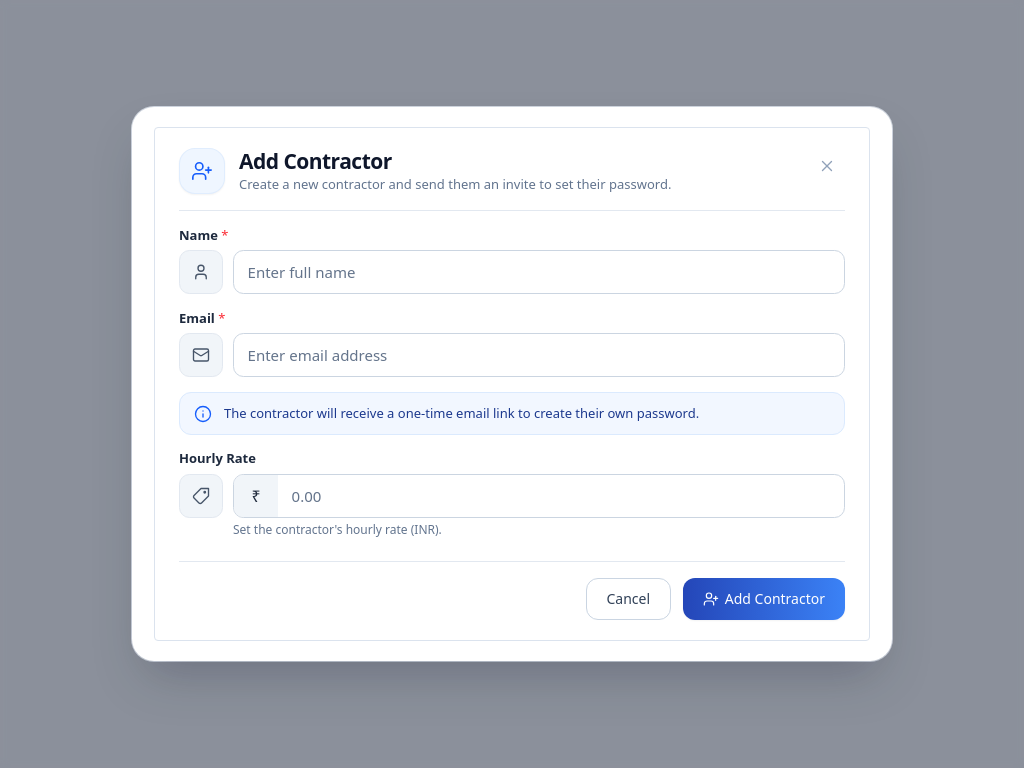
Test case: AddContractorModal › surfaces server API errors inline in an alert banner
Type "Duplicate User" into the field with placeholder "Enter full name" at (539, 272), box [233,250,845,294]
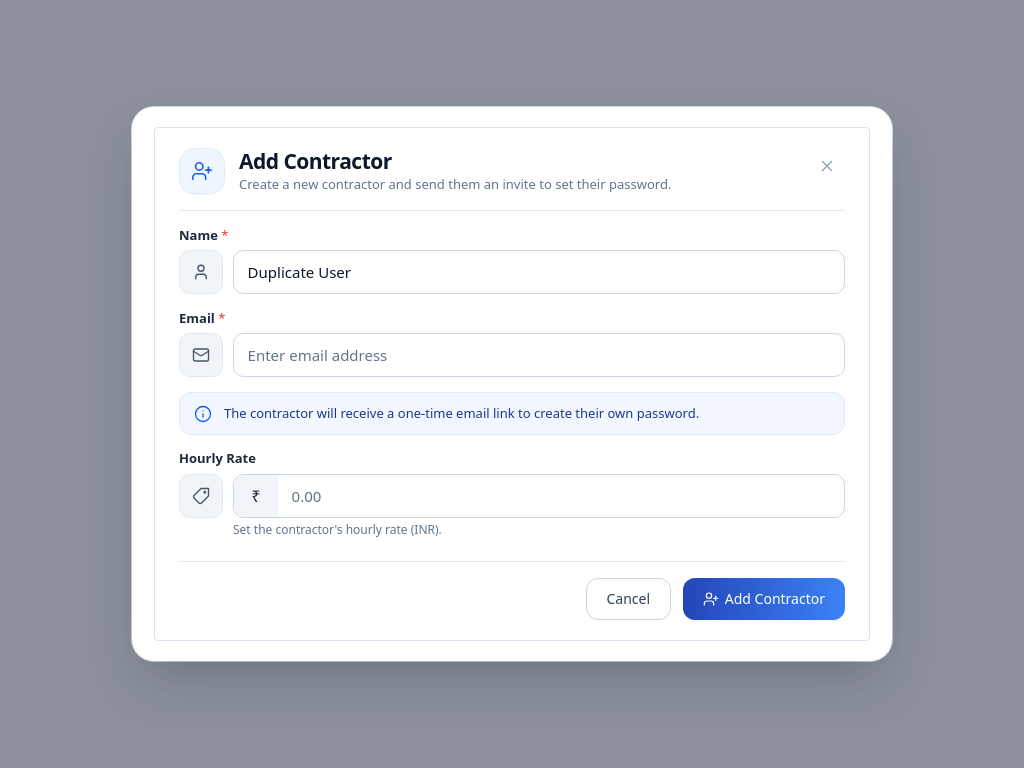
Type "duplicate@example.com" into the field with placeholder "Enter email address" at (539, 355), box [233,333,845,377]
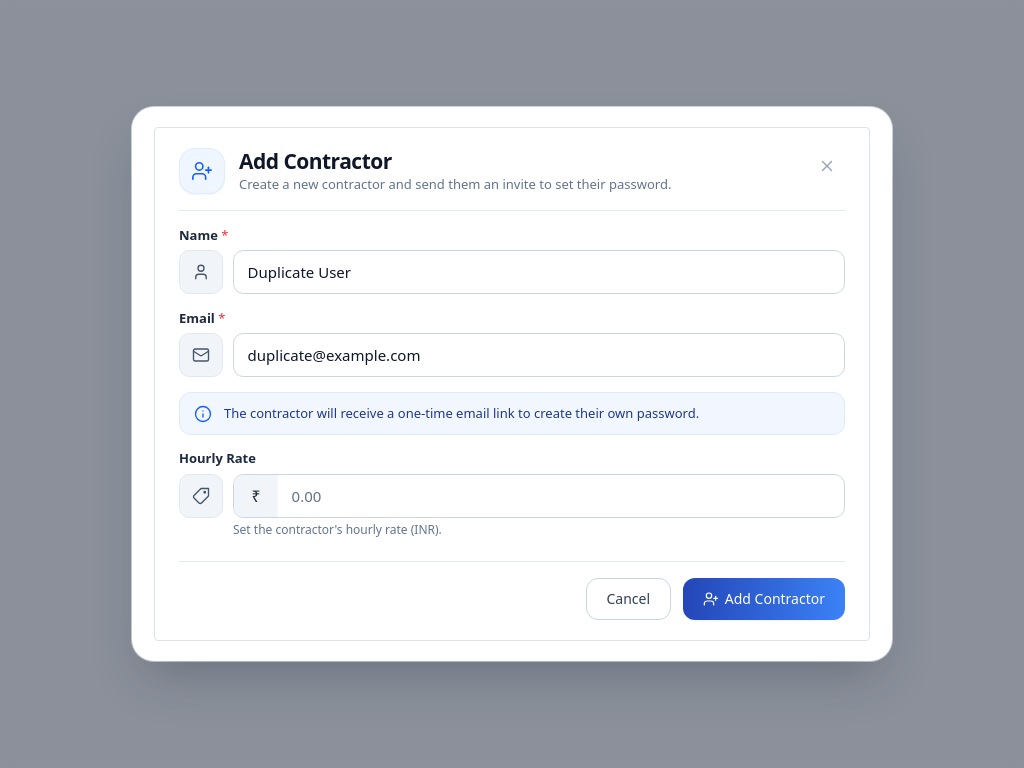
Type "150" into the number field with placeholder "0.00" at (561, 496), box [278,475,844,517]
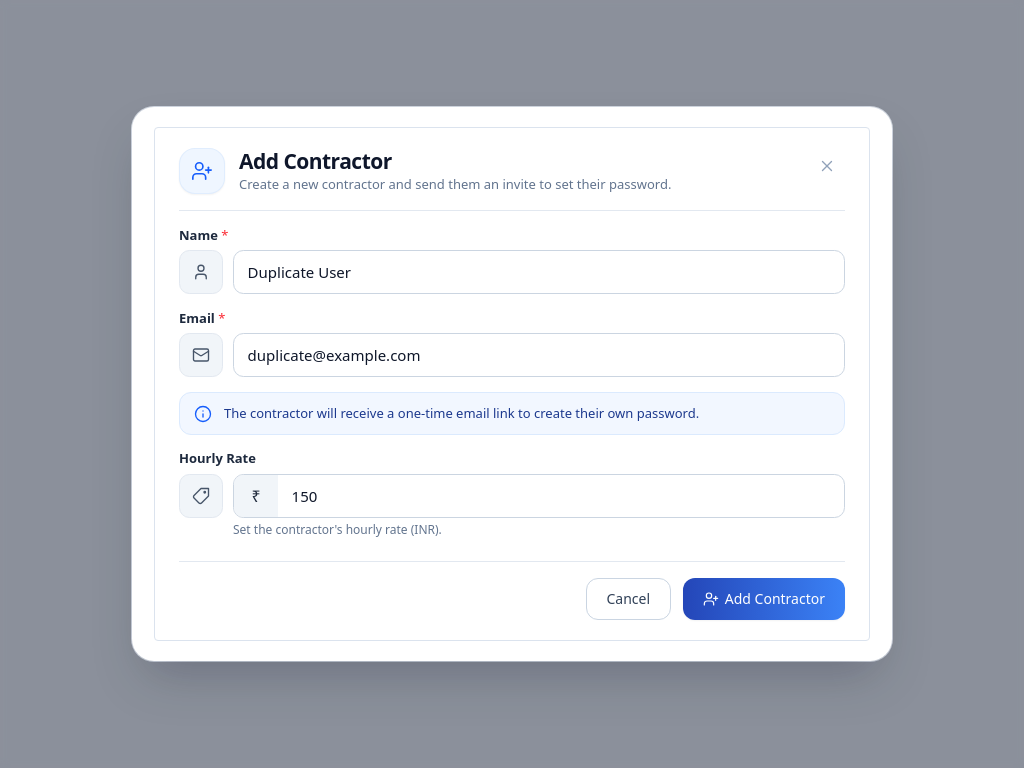
Click the button "Add Contractor" at (764, 599), box [683,578,845,620]
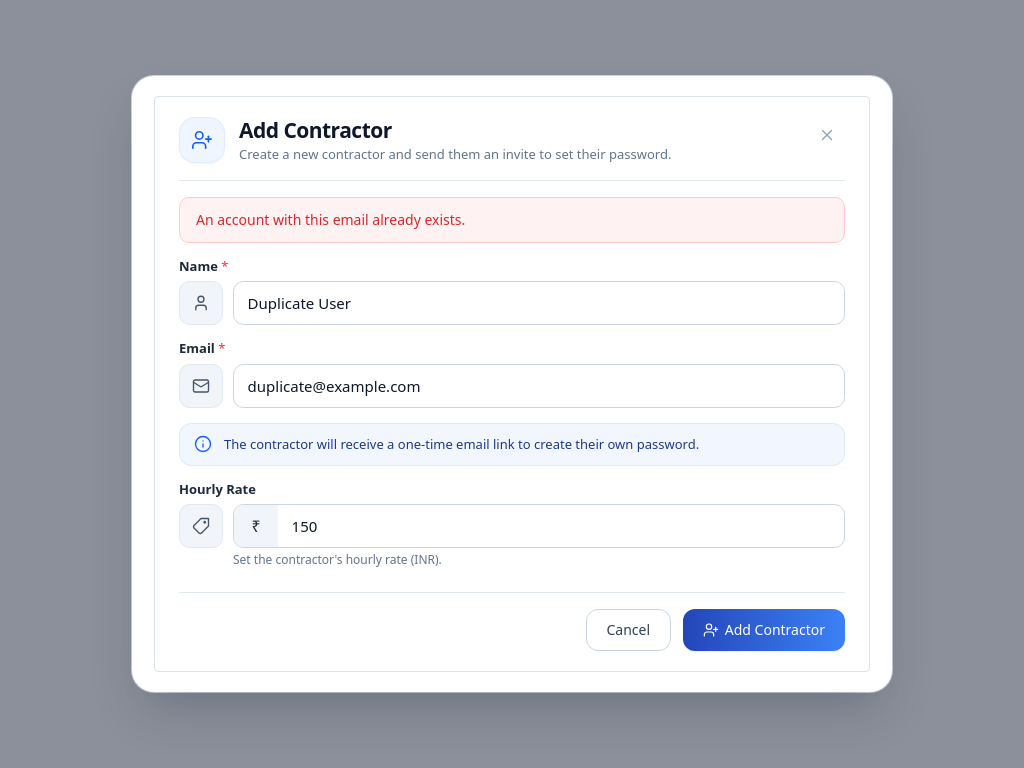
Result: the text "An account with this email already exists." is shown at [179,196,845,242]
